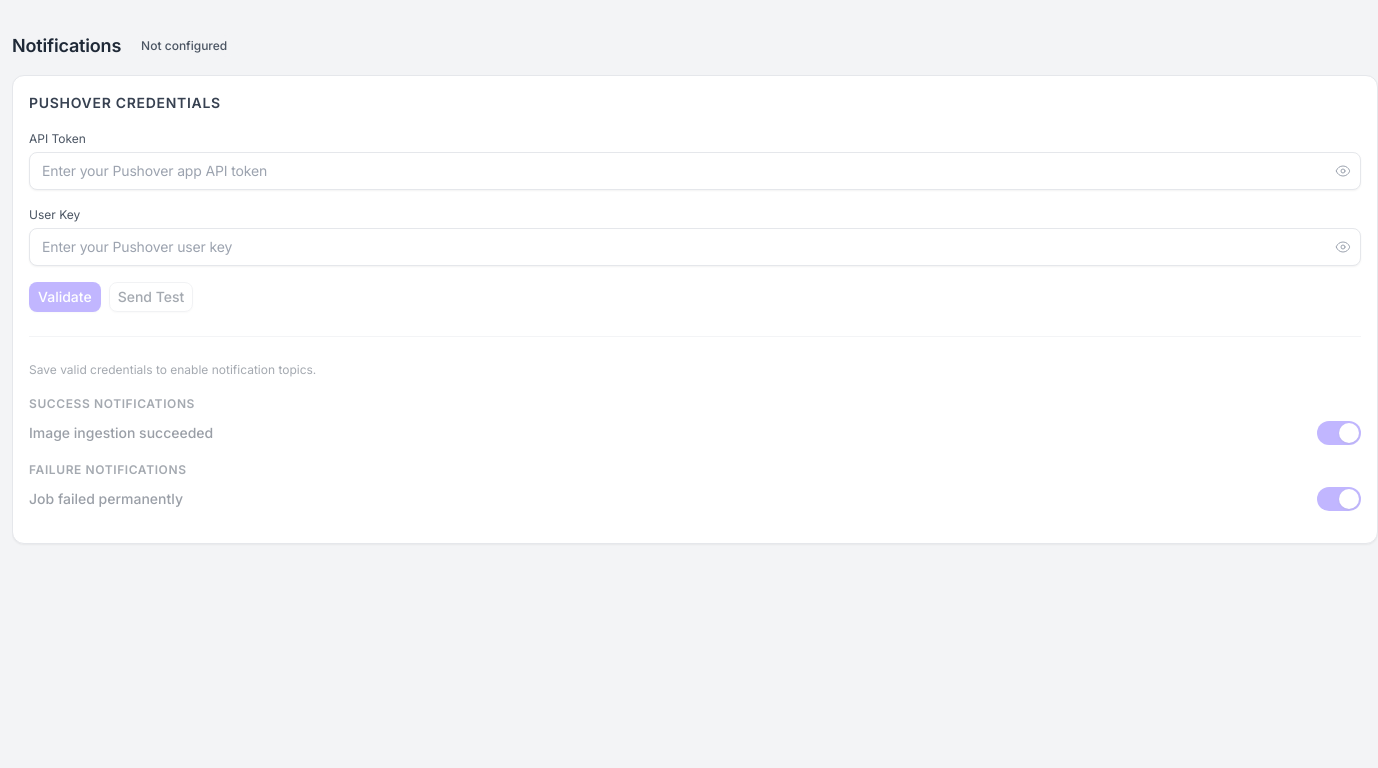
Test case: NotificationsSettings › shows validation success status
The image size is (1378, 768).
Type "test-token" into the password field with test id "pushover-token-input" at (695, 171), box [29, 152, 1361, 190]
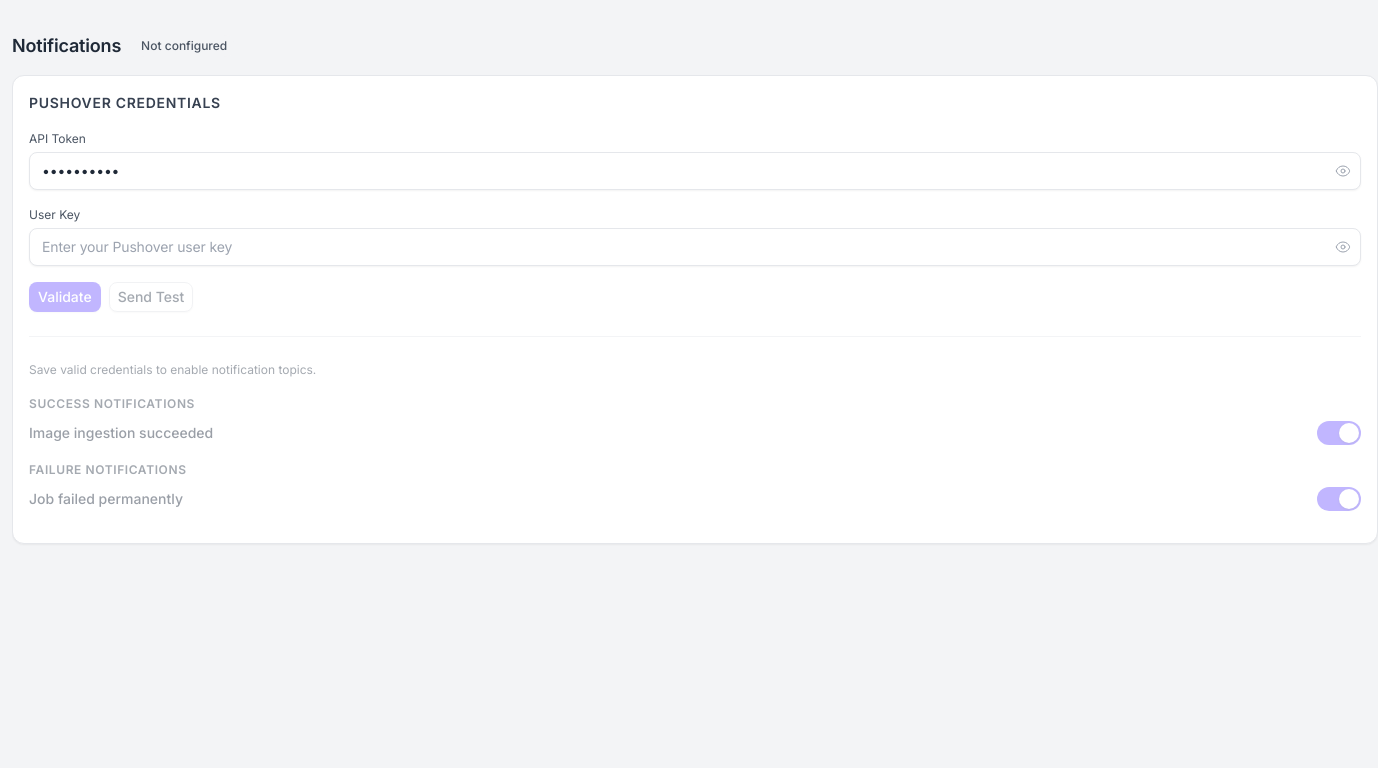
Type "test-key" into the password field with test id "pushover-key-input" at (695, 247), box [29, 228, 1361, 266]
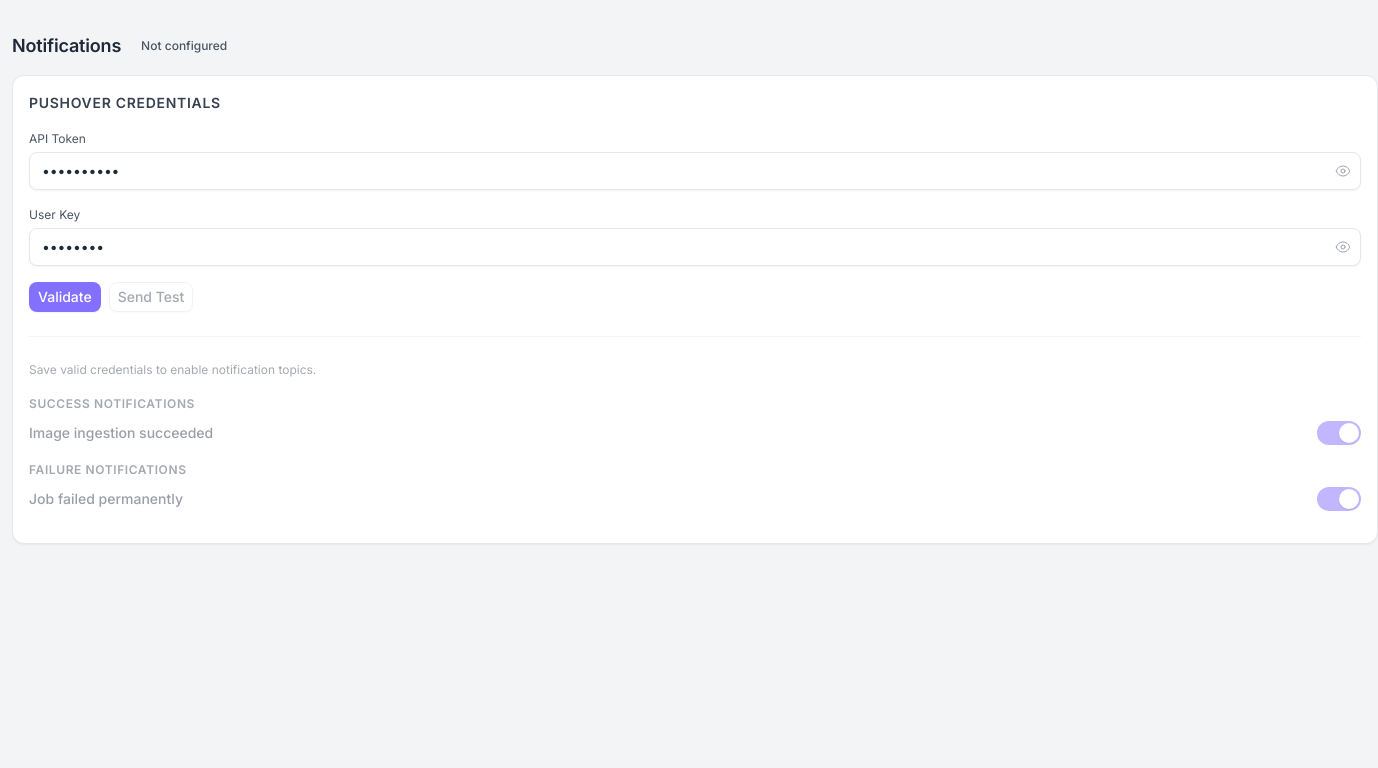
Click the button with test id "validate-button" at (65, 297), box [29, 282, 101, 312]
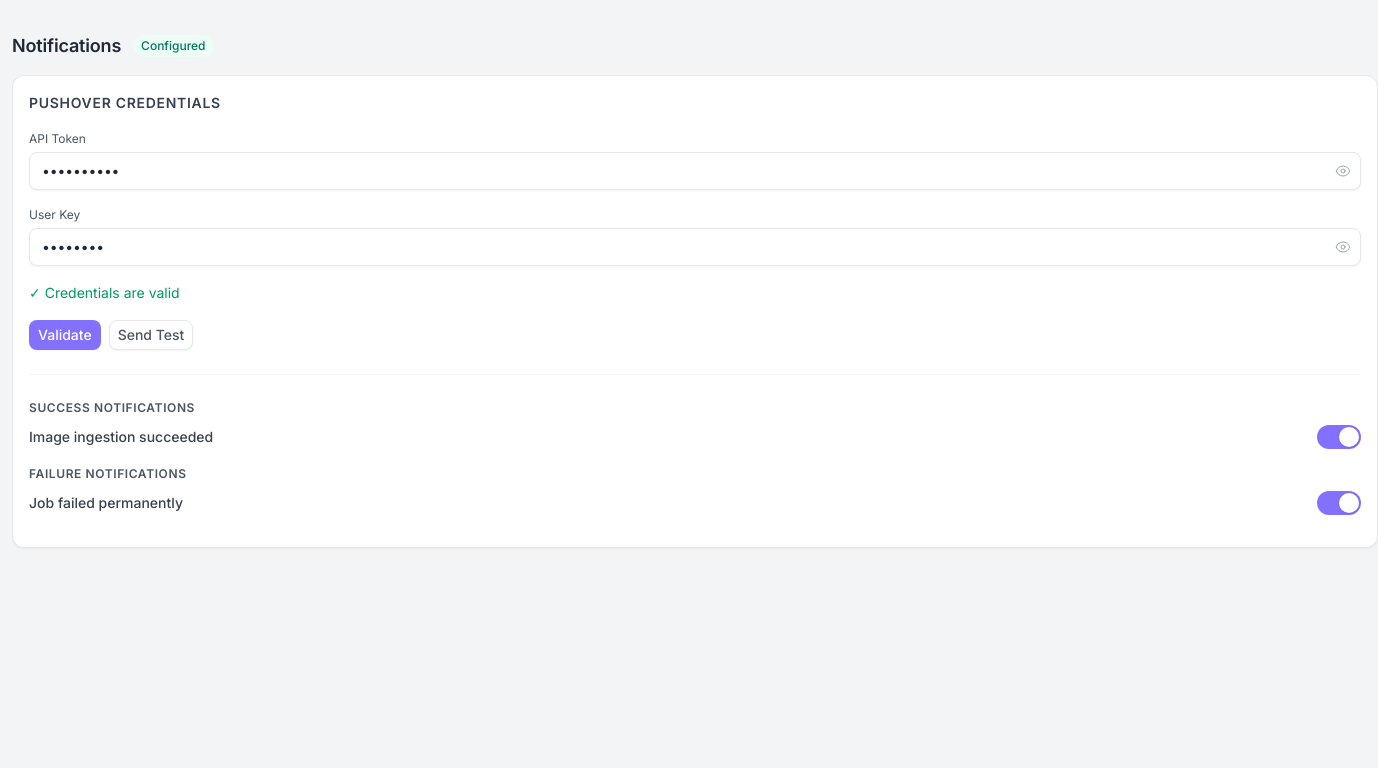
Now the element with test id "validation-status" shows "Credentials are valid", box [29, 284, 180, 301]
